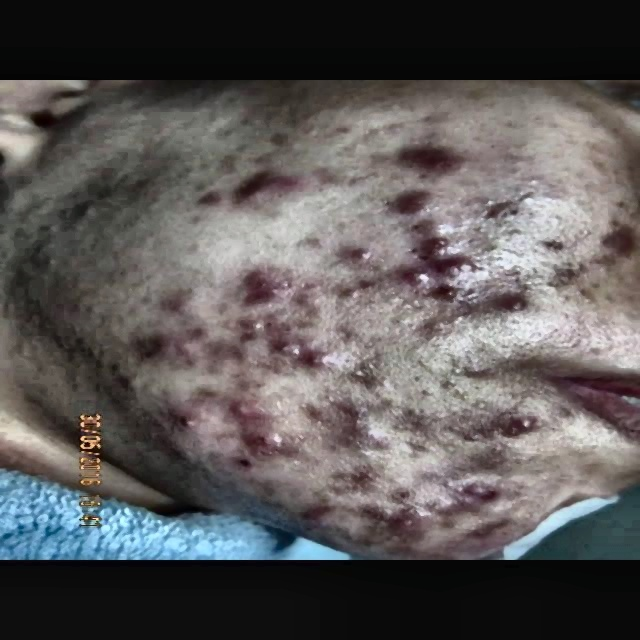nodule: (424, 465, 509, 501), (378, 144, 464, 174), (235, 169, 292, 211), (376, 187, 436, 225), (156, 406, 222, 439), (138, 326, 196, 362), (159, 184, 224, 216), (242, 265, 300, 300), (232, 423, 295, 455), (346, 424, 394, 464), (227, 391, 287, 423), (292, 344, 350, 376), (462, 198, 532, 224), (300, 159, 353, 191), (199, 148, 257, 176), (487, 407, 542, 435), (346, 238, 391, 272), (340, 360, 390, 390), (310, 504, 353, 536), (414, 253, 476, 274), (540, 260, 586, 288), (278, 305, 326, 331), (146, 290, 202, 312), (411, 232, 464, 255), (468, 233, 518, 257), (471, 291, 525, 313), (595, 228, 639, 255), (391, 266, 434, 293), (288, 229, 345, 249), (353, 480, 416, 498), (394, 508, 431, 538), (396, 408, 436, 435), (272, 338, 313, 364), (416, 282, 464, 304), (450, 424, 498, 446), (335, 399, 381, 421), (340, 468, 380, 490), (417, 314, 453, 338), (468, 517, 511, 537), (535, 232, 573, 254), (190, 383, 228, 405), (163, 443, 201, 465), (222, 324, 262, 344), (336, 278, 380, 296), (225, 453, 269, 471), (401, 439, 440, 459), (461, 362, 499, 378), (305, 398, 335, 418), (116, 373, 148, 391), (334, 326, 366, 344), (325, 297, 346, 309)
